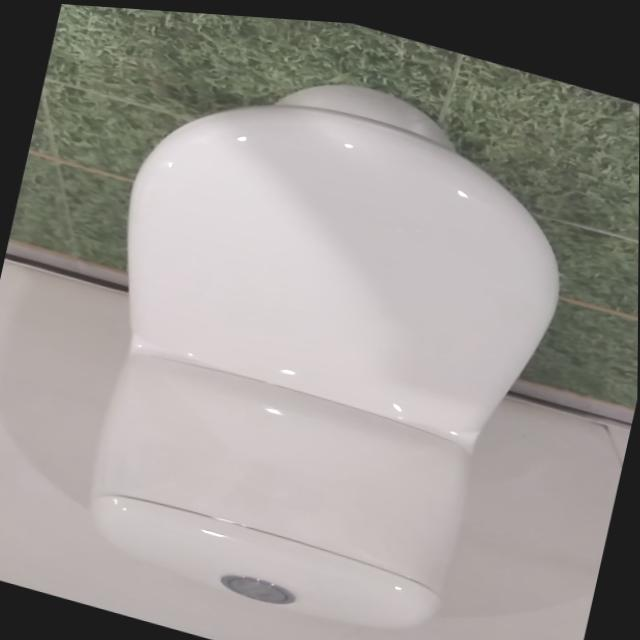toilet: (51, 23, 594, 640)
